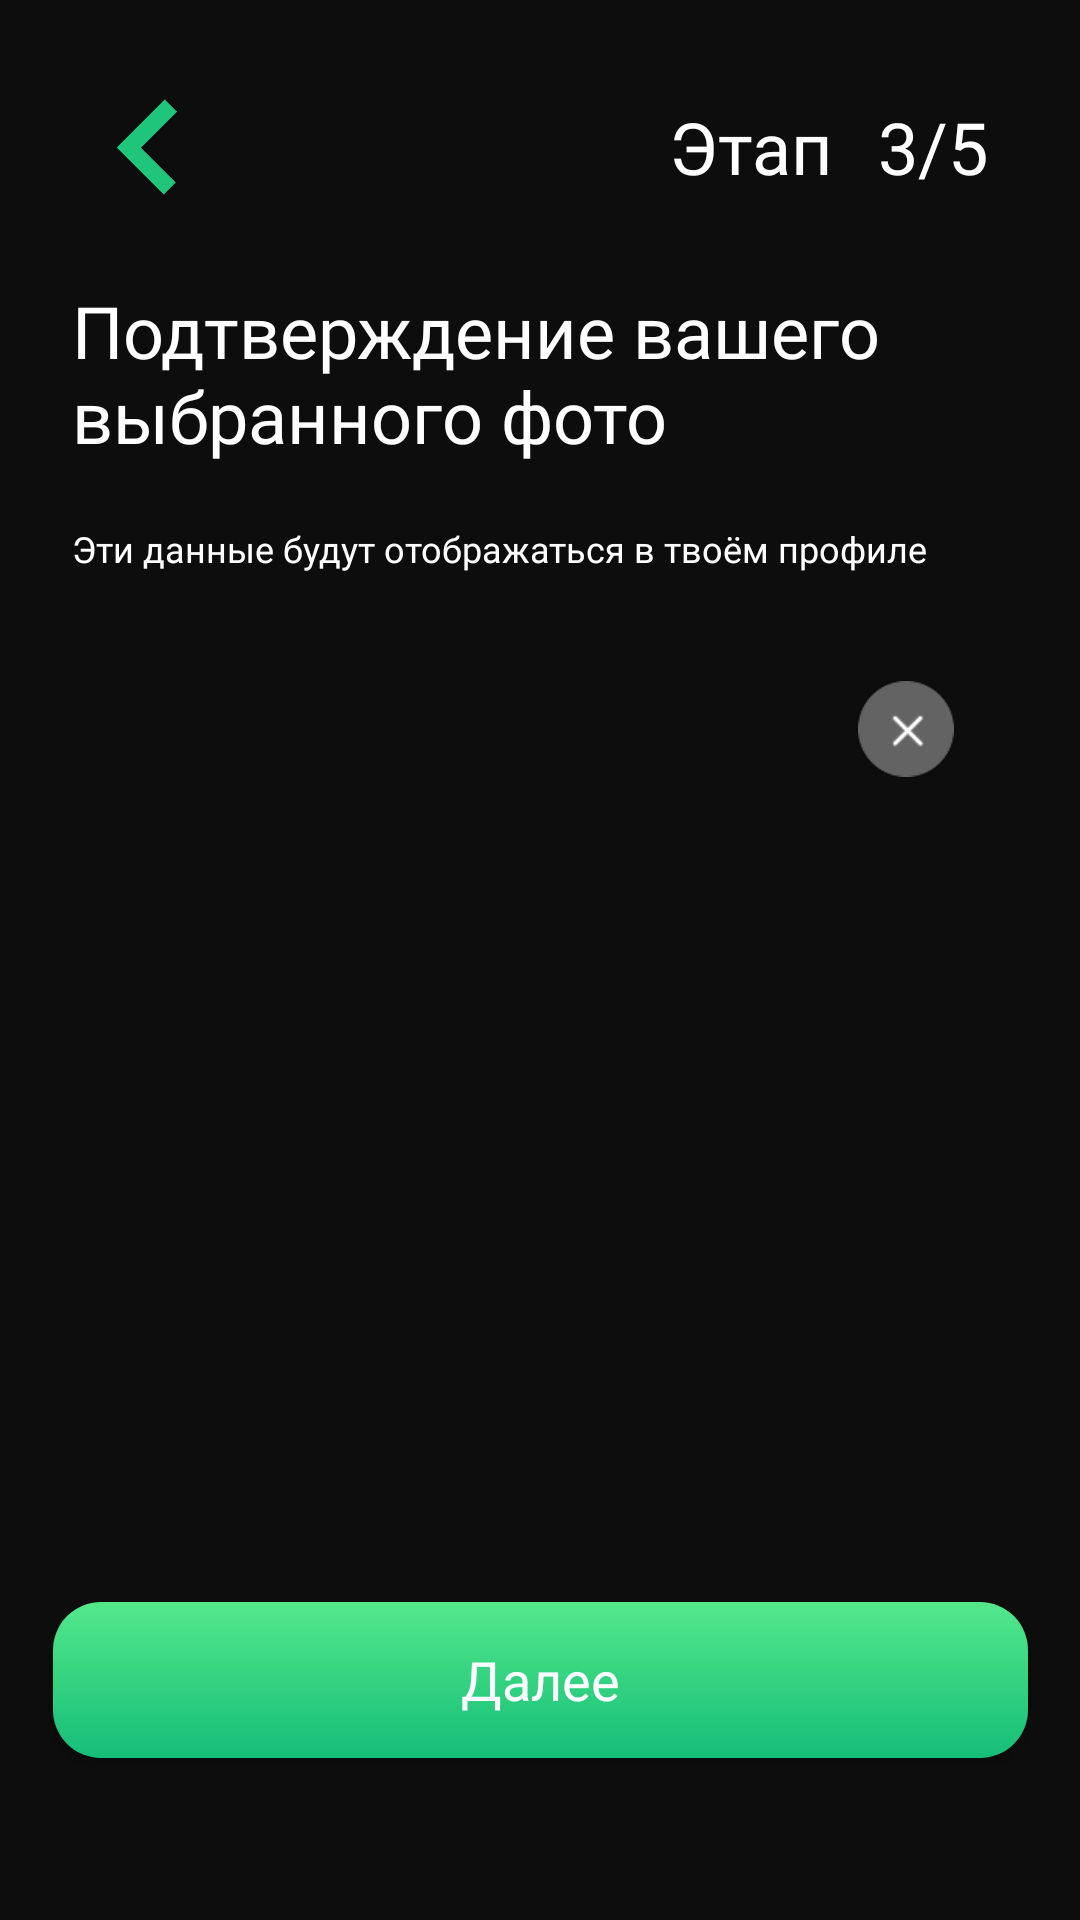

Named icons in this screenshot (1080x1920) and their centers, (x=x, y=y):
close iw: (x=906, y=729)
